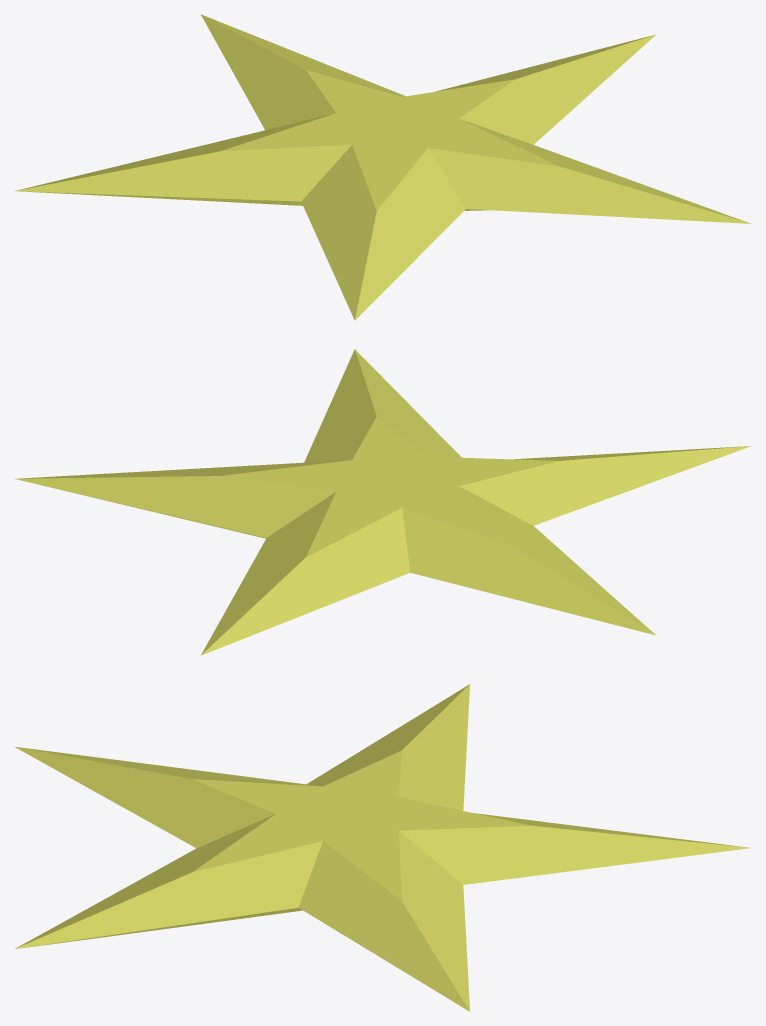
Rendered from Star.fbx.
3 views of the same model, one above another, from view 1: azimuth 30°, elevation 25°; view 2: azimuth 150°, elevation 25°; view 3: azimuth 270°, elevation 25° (orthographic). The views are drawn at different scales.
Visible parts, largest first — view 1: Circle; view 2: Circle; view 3: Circle.
Boxes of the visible parts, bbox=[...] form: Circle: bbox=[14, 14, 751, 320]; Circle: bbox=[14, 349, 751, 655]; Circle: bbox=[14, 684, 750, 1011].
Bounding box in the file's own units: 190 × 17.75 × 181.
